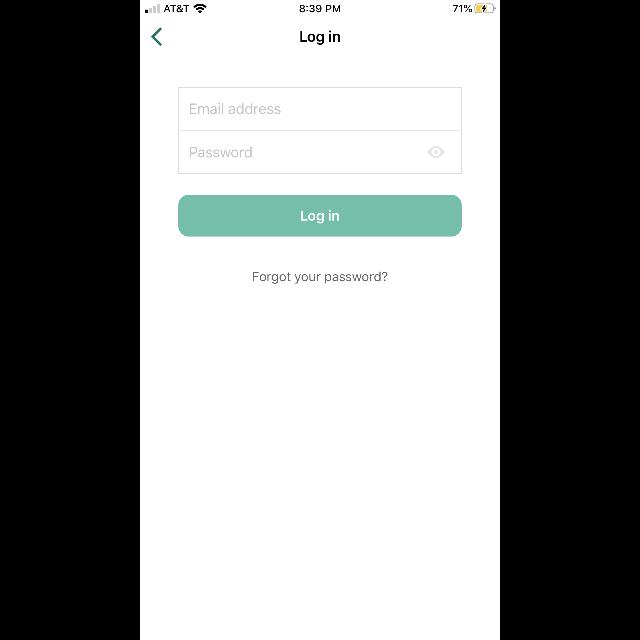icon: (427, 146, 445, 158), (152, 28, 162, 46)
input: (178, 87, 462, 131), (178, 130, 462, 173)
text: (253, 272, 387, 284), (191, 104, 281, 115), (190, 146, 252, 158), (300, 30, 340, 46)
textbutton: (178, 195, 462, 237)
uppertaskbar: (140, 0, 500, 14)
